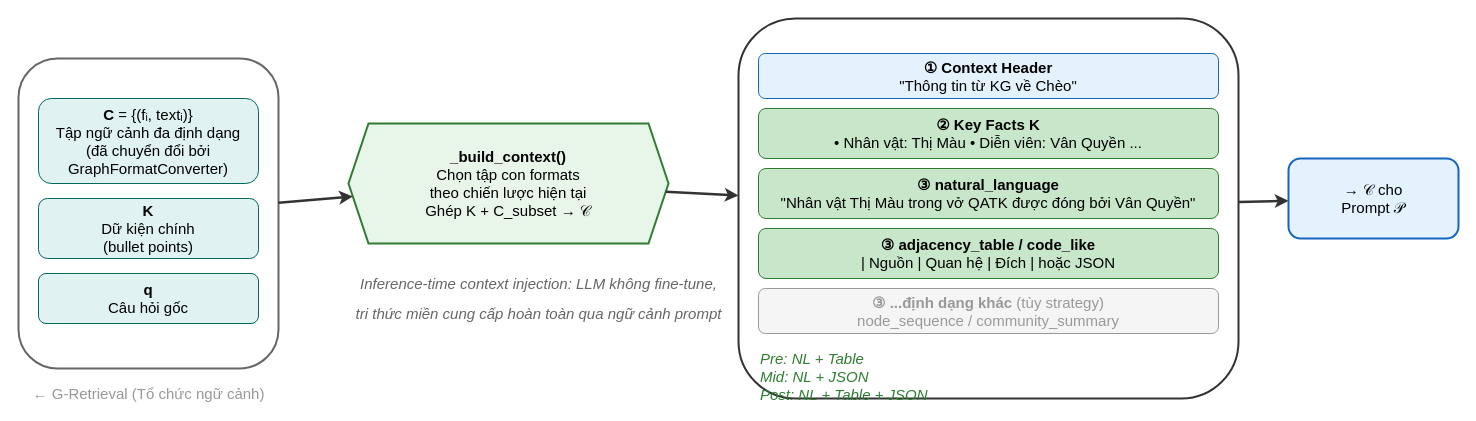
Some shapes in this 1476 by 421 pixel diagram are drawn without their labels. The box of each missing label's shape, as (x1, y1, x2, y2) in pixels:
Ngữ cảnh 𝒞 đã tổ hợp: (737, 17, 1239, 399)
Đầu vào từ G-Retrieval: (17, 57, 279, 369)
